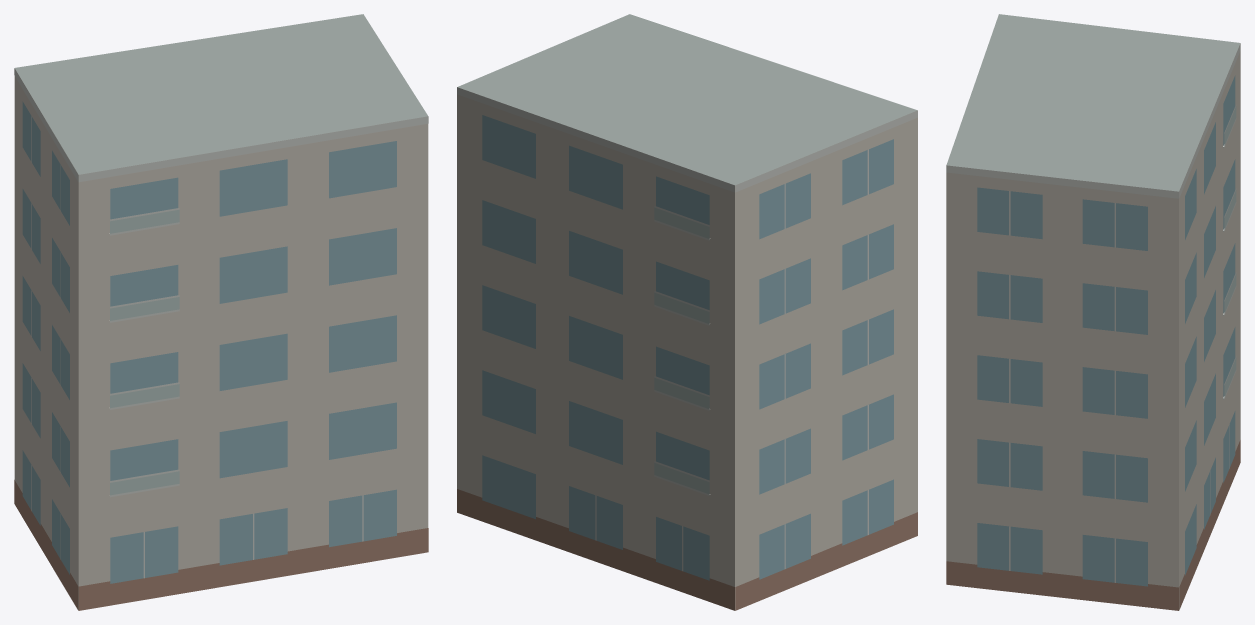
File: survey-upis-32794303.glb
The picture shows the model from 3 angles, left to right: view 1: azimuth 30°, elevation 25°; view 2: azimuth 150°, elevation 25°; view 3: azimuth 270°, elevation 25°; orthographic projection. The views are drawn at different scales.
Parts seen in each view (by area): view 1: survey-upis-32794303.tmp; view 2: survey-upis-32794303.tmp; view 3: survey-upis-32794303.tmp.
Part boxes in pixels (left/top/right/bottom): survey-upis-32794303.tmp: left=14, top=14, right=428, bottom=610; survey-upis-32794303.tmp: left=457, top=14, right=917, bottom=610; survey-upis-32794303.tmp: left=946, top=14, right=1240, bottom=610.
Size of the model in its own units: 13.05 by 14.35 by 9.14.
